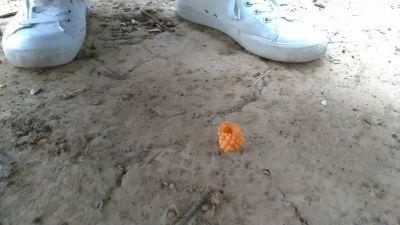eggs: (217, 120, 244, 154)
